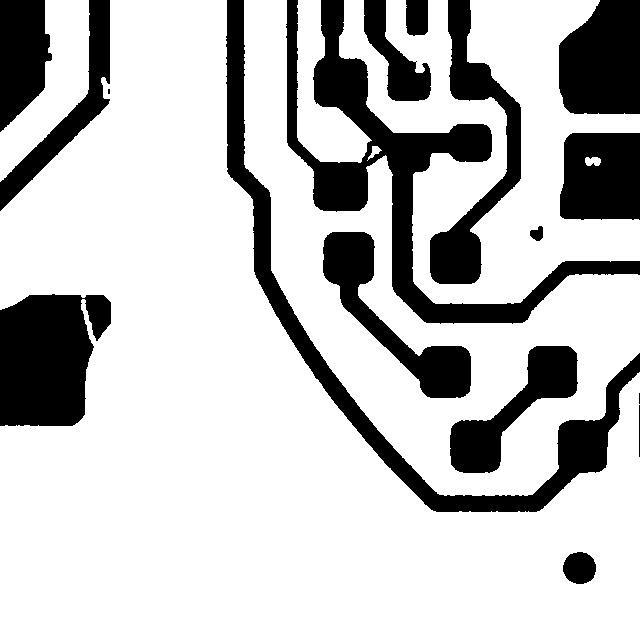copper: (520, 216, 552, 250)
mousebite: (91, 67, 124, 108), (405, 47, 435, 82)
open: (71, 279, 111, 362)
pin-hole: (575, 147, 610, 175)
short: (348, 131, 400, 177)
spur: (30, 24, 61, 72)
